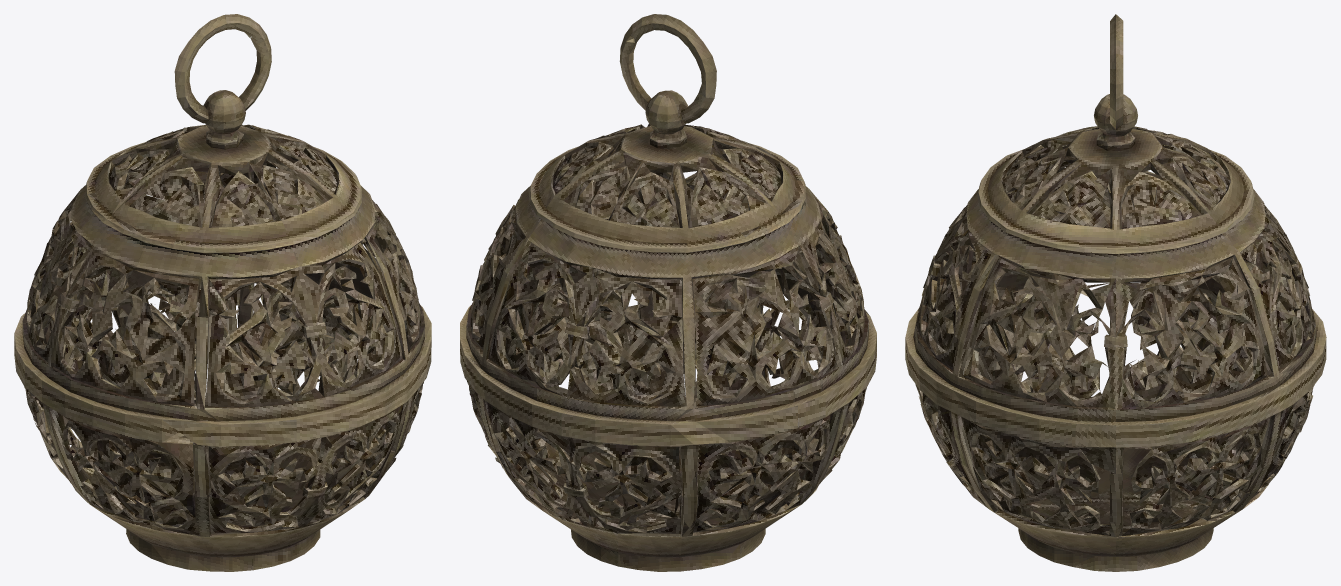
File: ewm_censer.glb
3 views of the same model, side by side, from view 1: azimuth 30°, elevation 25°; view 2: azimuth 150°, elevation 25°; view 3: azimuth 270°, elevation 25° (orthographic).
Visible parts, largest first — view 1: ewm_censer; view 2: ewm_censer; view 3: ewm_censer.
Part boxes in pixels (box(x1,y1,x2,y2)): ewm_censer: box(14, 14, 431, 571); ewm_censer: box(460, 14, 876, 571); ewm_censer: box(905, 14, 1326, 571).
Size of the model in its own units: 0.1107 by 0.15 by 0.1117.
Materials: 1 (1 with a texture image).
